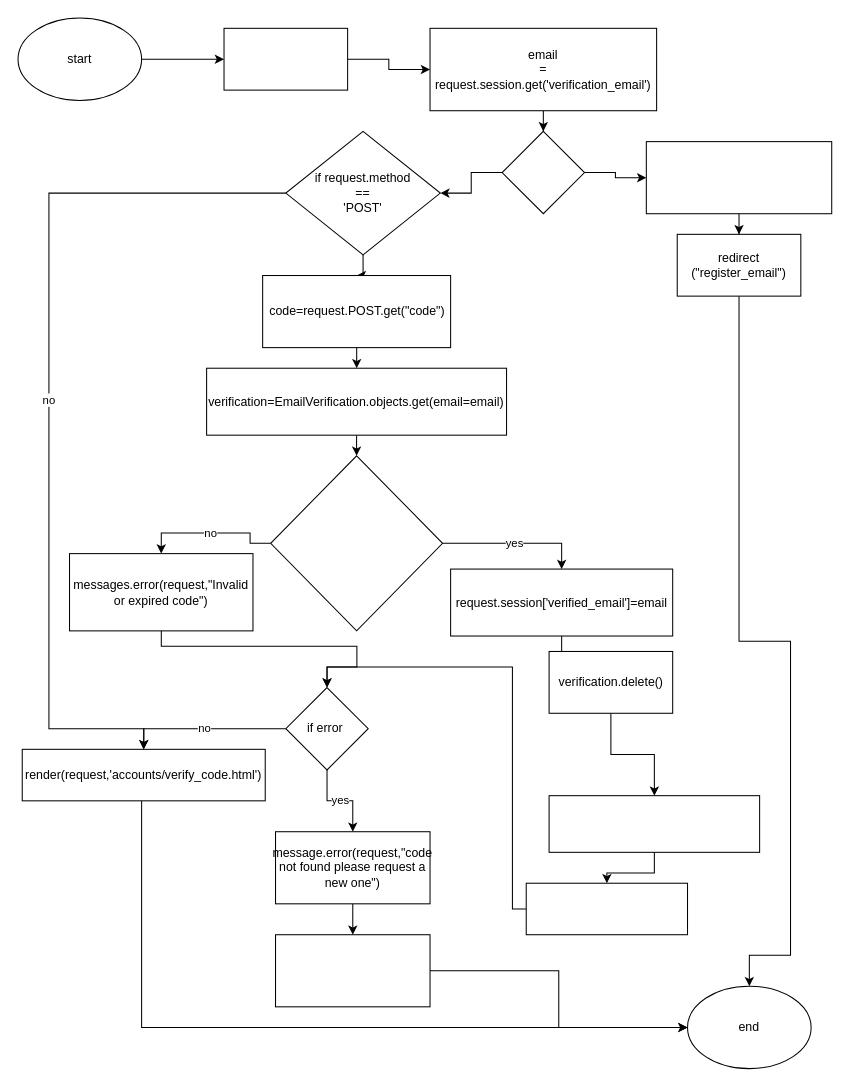
This 850x1087 diagram has some shape labels left out. The shapes that lost their labels are listed below. From the top down, each one's centre as x and y in pixels, then its label:
pixel 285 58: recive reqeust
pixel 543 172: if not email
pixel 738 177: message.error(request,"session epired please try again ")
pixel 356 543: if verification.code == code and verification.is_valid():
pixel 654 823: del request.session['verification_email']
pixel 606 908: redirect('create_account')
pixel 352 970: redirect("register_email")
